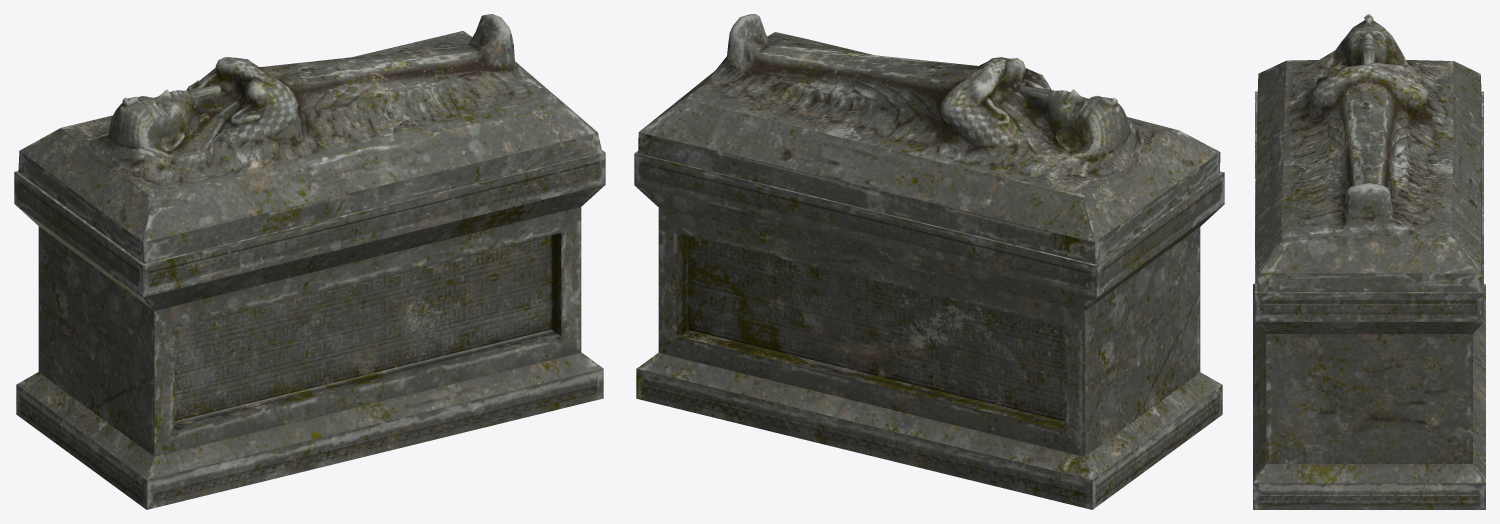
The model's file is SM_Prop_Stone_Grave1.fbx.
The picture shows the model from 3 angles, left to right: view 1: azimuth 30°, elevation 25°; view 2: azimuth 150°, elevation 25°; view 3: azimuth 270°, elevation 25°; orthographic projection. The views are drawn at different scales.
Visible parts, largest first — view 1: SM_Prop_Stone_Grave1_LOD0; view 2: SM_Prop_Stone_Grave1_LOD0; view 3: SM_Prop_Stone_Grave1_LOD0.
Boxes of the visible parts, <box> form: SM_Prop_Stone_Grave1_LOD0: <box>14,14,605,509</box>; SM_Prop_Stone_Grave1_LOD0: <box>634,14,1224,509</box>; SM_Prop_Stone_Grave1_LOD0: <box>1253,14,1485,509</box>.
Bounding box in the file's own units: 238 × 116 × 176.
1 material, 1 textured.
